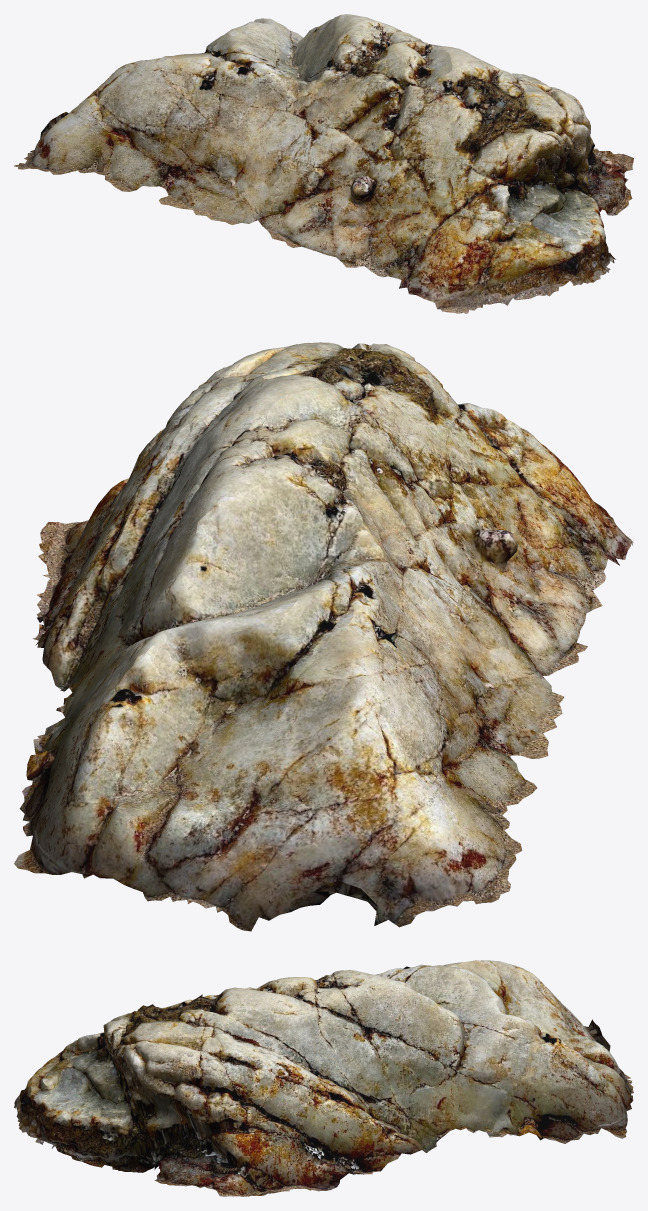
File: quartz_scan.glb
3 views of the same model, one above another, from view 1: azimuth 30°, elevation 25°; view 2: azimuth 150°, elevation 25°; view 3: azimuth 270°, elevation 25° (orthographic). The views are drawn at different scales.
Visible parts, largest first — view 1: Object_3; view 2: Object_3; view 3: Object_3.
Boxes of the visible parts, x1,y1,x2,y2 form: Object_3: (14,14,633,313); Object_3: (14,342,633,931); Object_3: (14,960,633,1196).
Size of the model in its own units: 11.65 by 4.12 by 14.43.
Materials: 1 (1 with a texture image).
